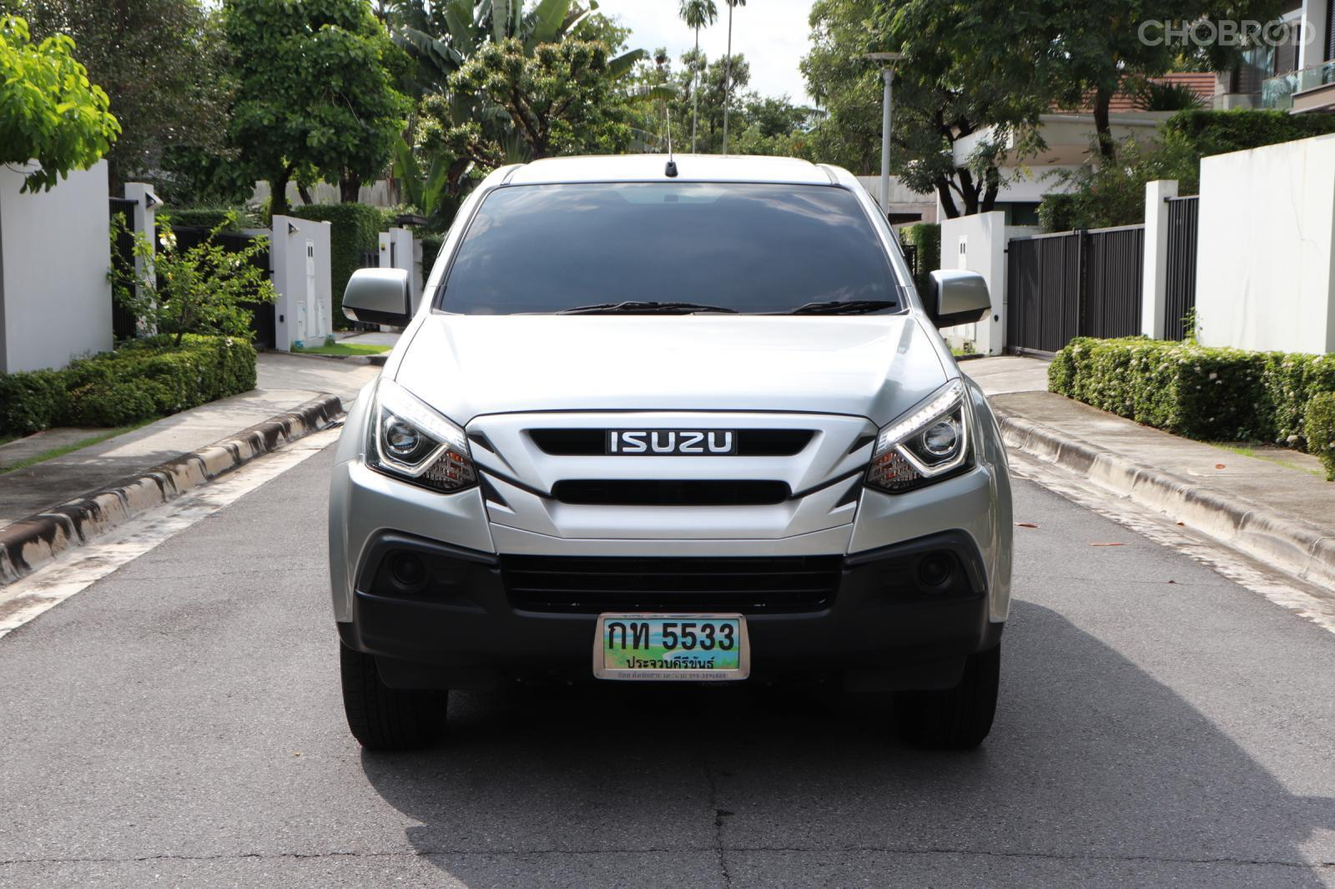license-plate: (590, 607, 753, 684)
